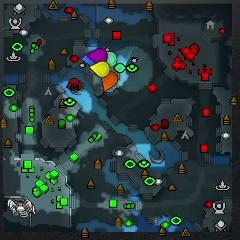p1: (81, 52, 96, 65)
p2: (106, 52, 117, 69)
p3: (87, 49, 108, 62)
p4: (90, 62, 109, 76)
p5: (102, 72, 118, 91)
